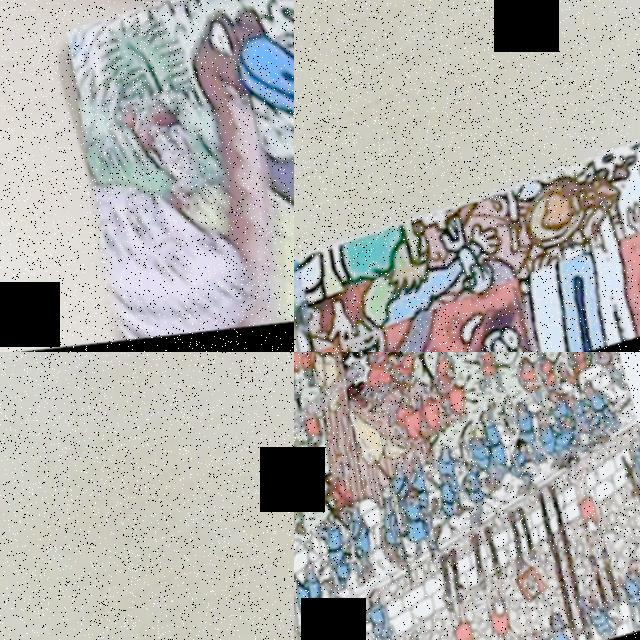waldo: (115, 90, 201, 202), (428, 292, 535, 352)
